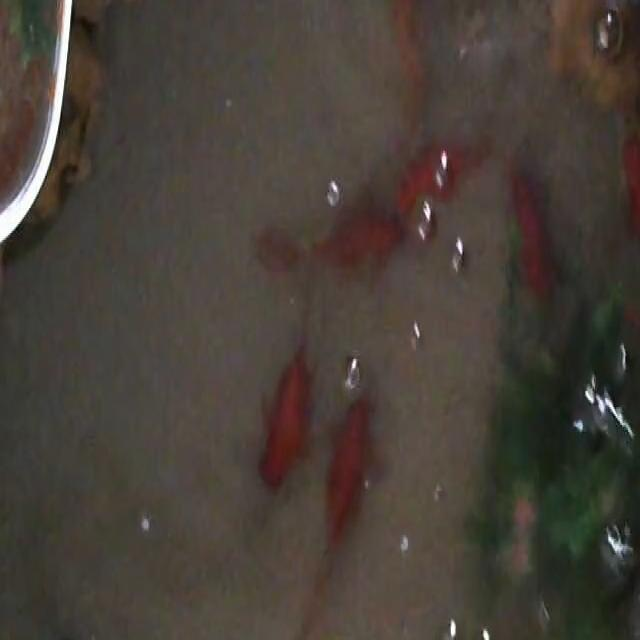fish: (302, 384, 376, 639), (256, 342, 314, 496), (394, 134, 492, 223), (510, 161, 560, 308), (310, 202, 406, 274), (387, 0, 425, 124), (620, 130, 640, 327)
